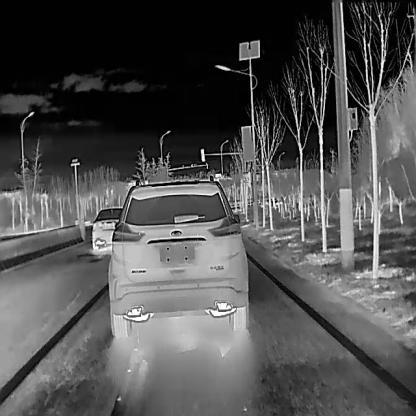car: (107, 173, 249, 337), (90, 206, 123, 253)
